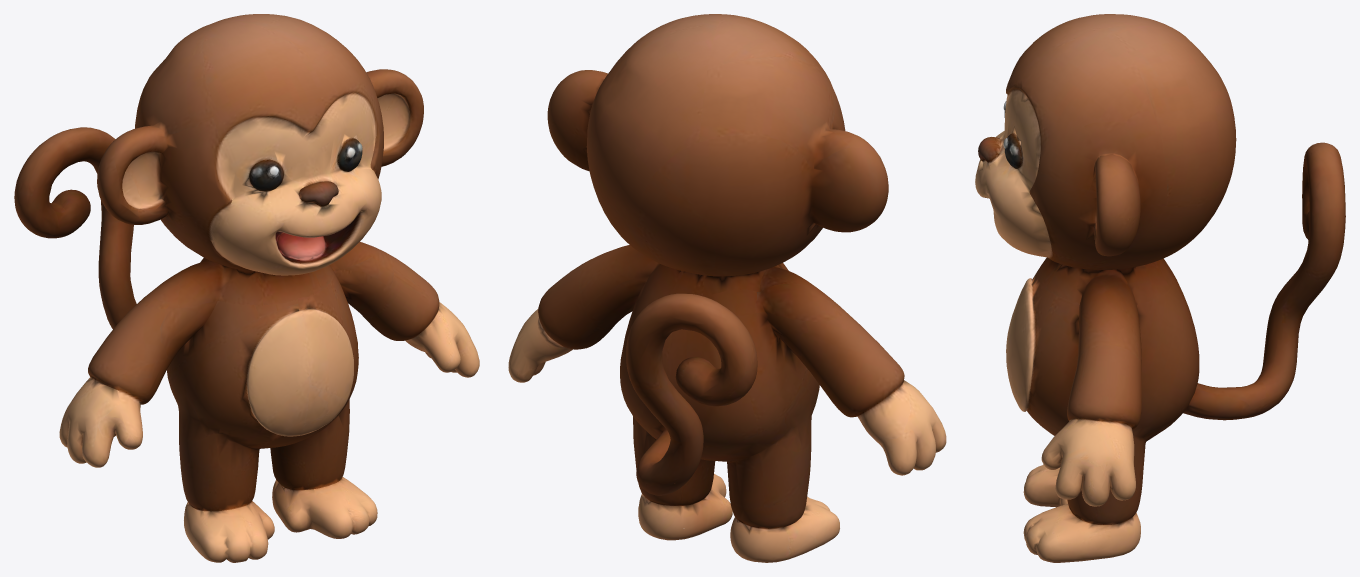
File: macaco.glb
The picture shows the model from 3 angles, left to right: view 1: azimuth 30°, elevation 25°; view 2: azimuth 150°, elevation 25°; view 3: azimuth 270°, elevation 25°; orthographic projection. The views are drawn at different scales.
Parts seen in each view (by area): view 1: personagem; view 2: personagem; view 3: personagem.
Boxes of the visible parts, box(x1,y1,x2,y2) form: personagem: box(14, 14, 479, 562); personagem: box(508, 14, 946, 562); personagem: box(975, 14, 1345, 562).
Bounding box in the file's own units: 0.8243 × 0.9796 × 0.6604.
Materials: 1 (1 with a texture image).
